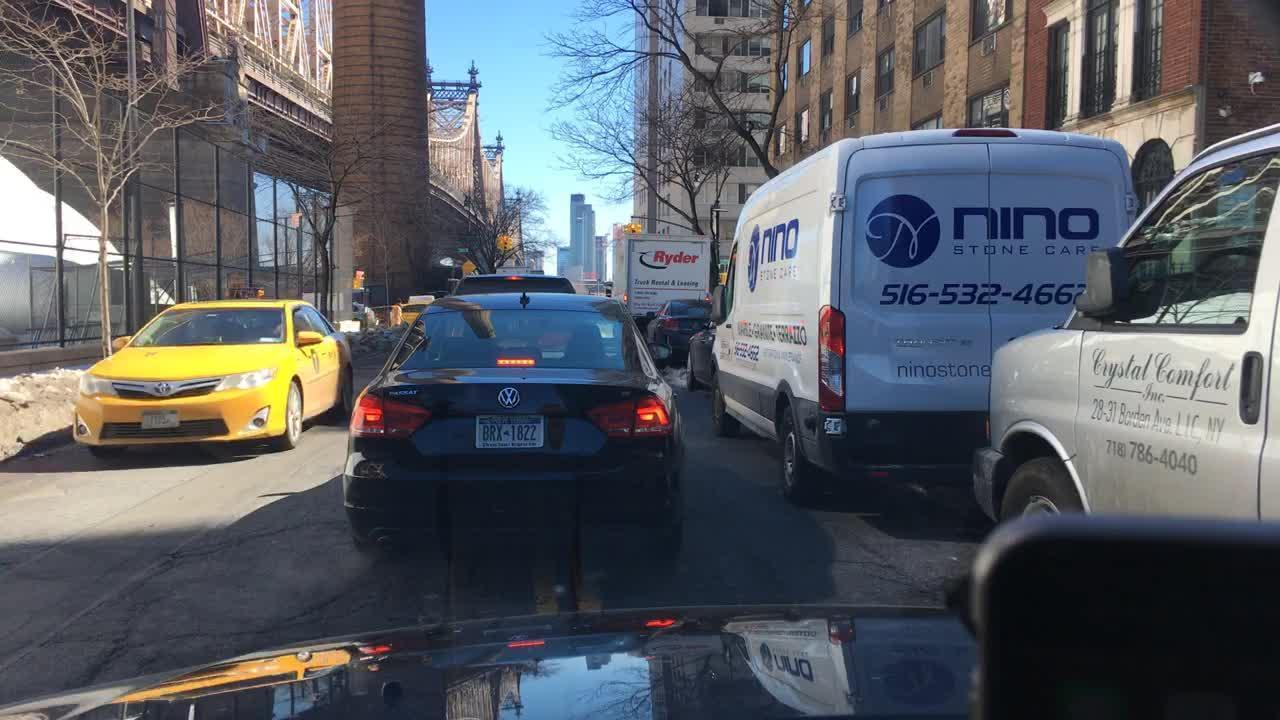Volkswagen: (490, 378, 530, 415)
